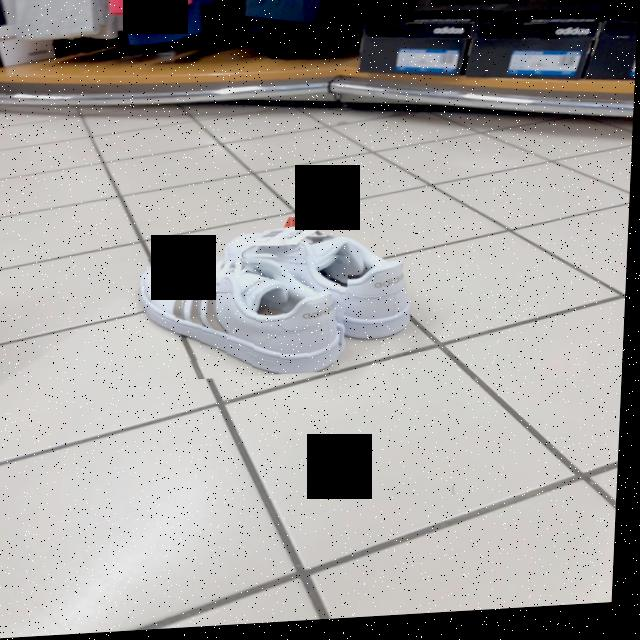shoe: (142, 262, 347, 378)
